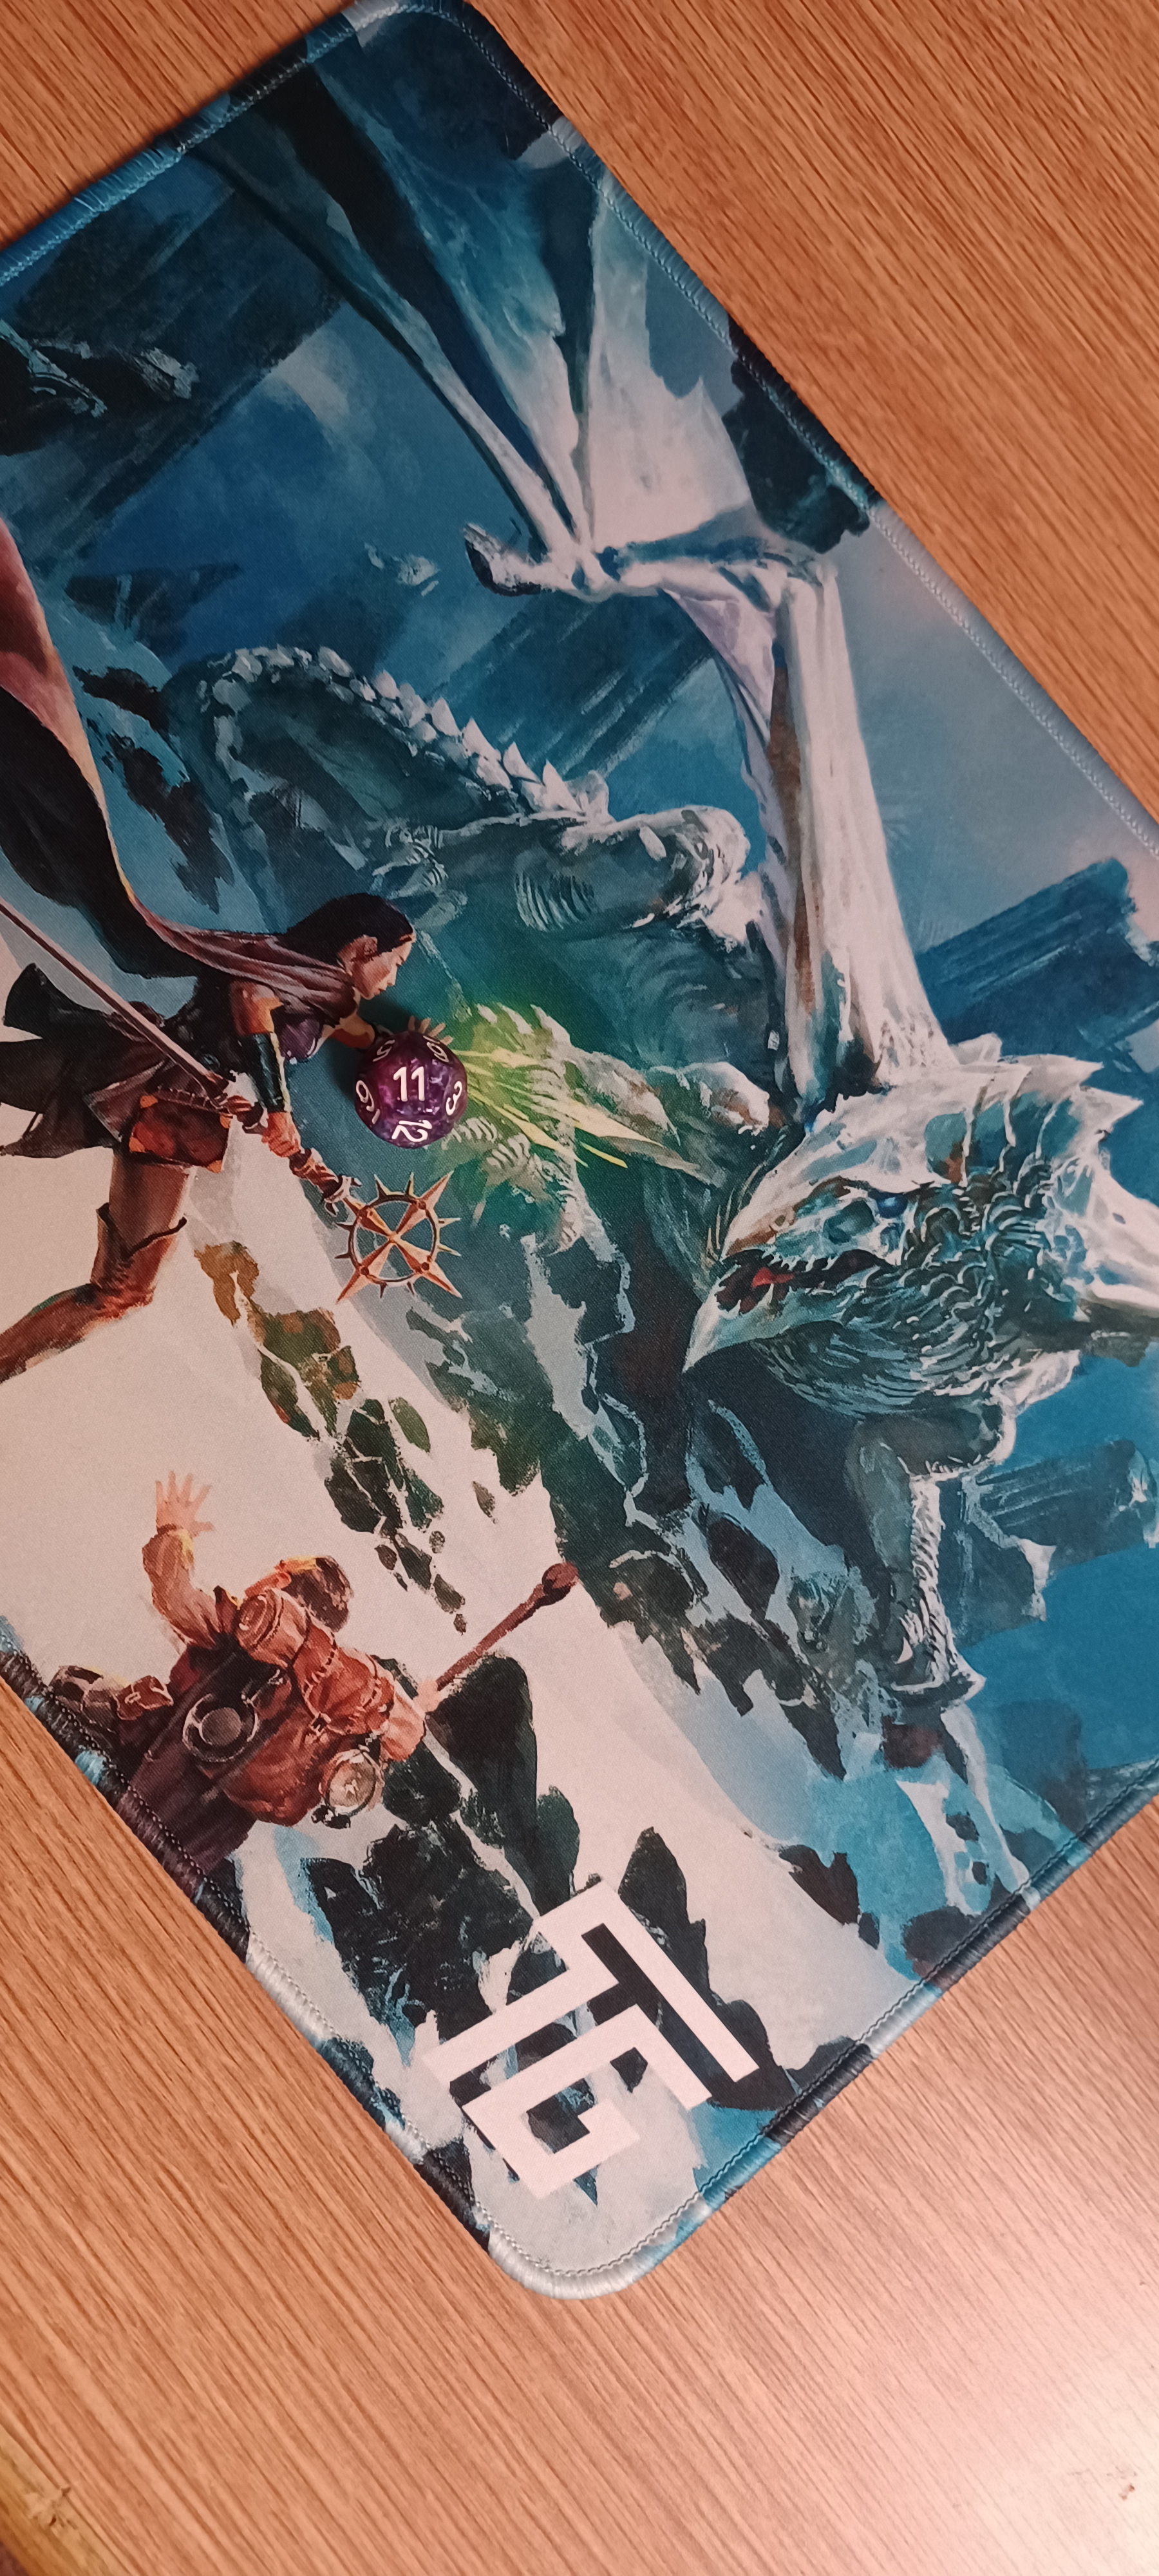eleven: (309, 987, 525, 1175)
